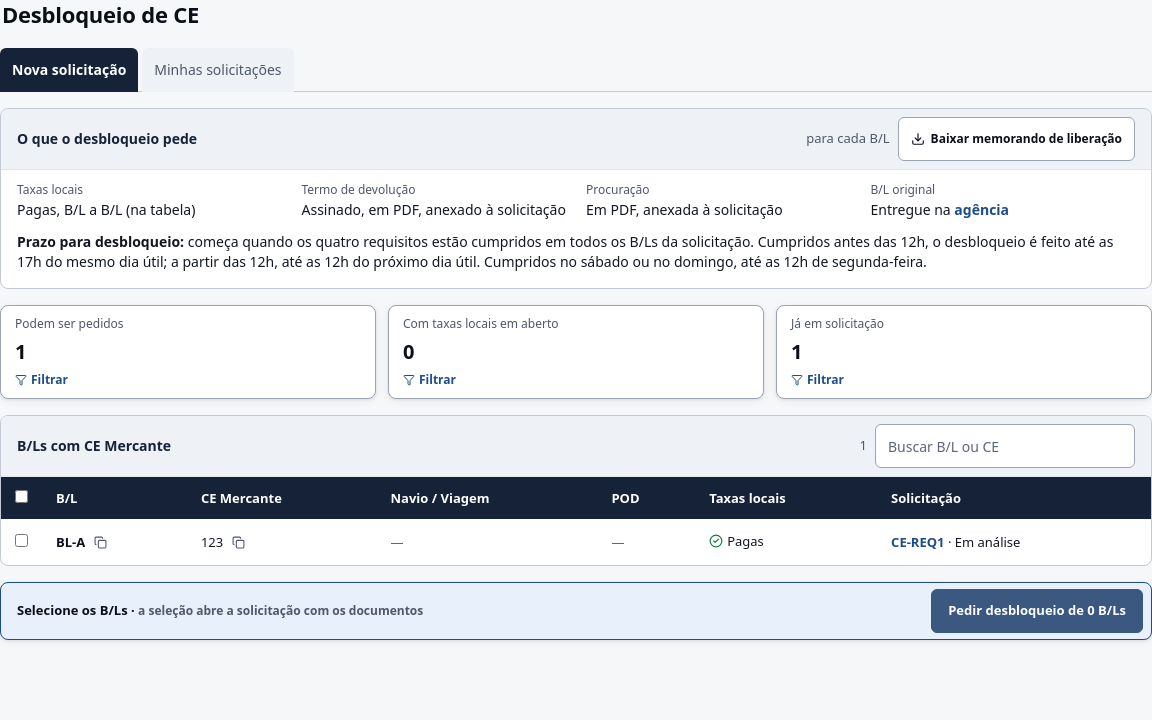
Scenario: prévia conta B/L ativo que o Portal não lista: a antiga continua aberta
Click the checkbox named "Selecionar B/L BL-A".
click(22, 540)  # box [15,534,28,547]
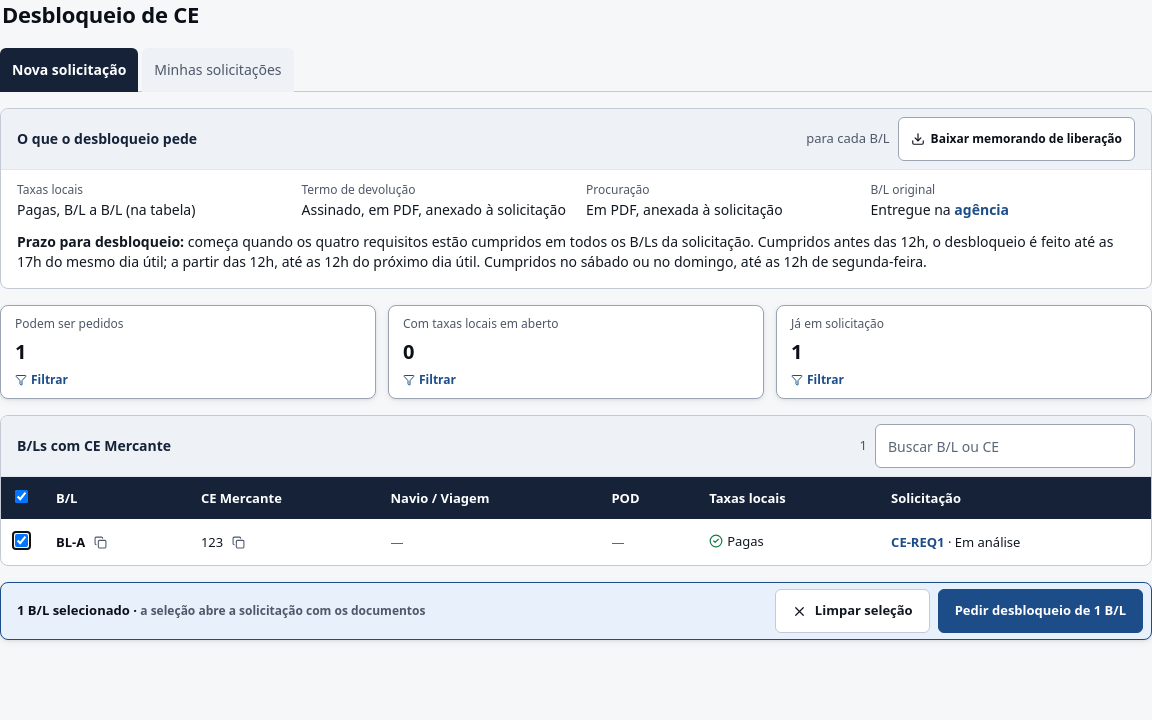
Click the button "Pedir desbloqueio de 1 B/L".
click(1040, 611)  # box [938,589,1143,633]
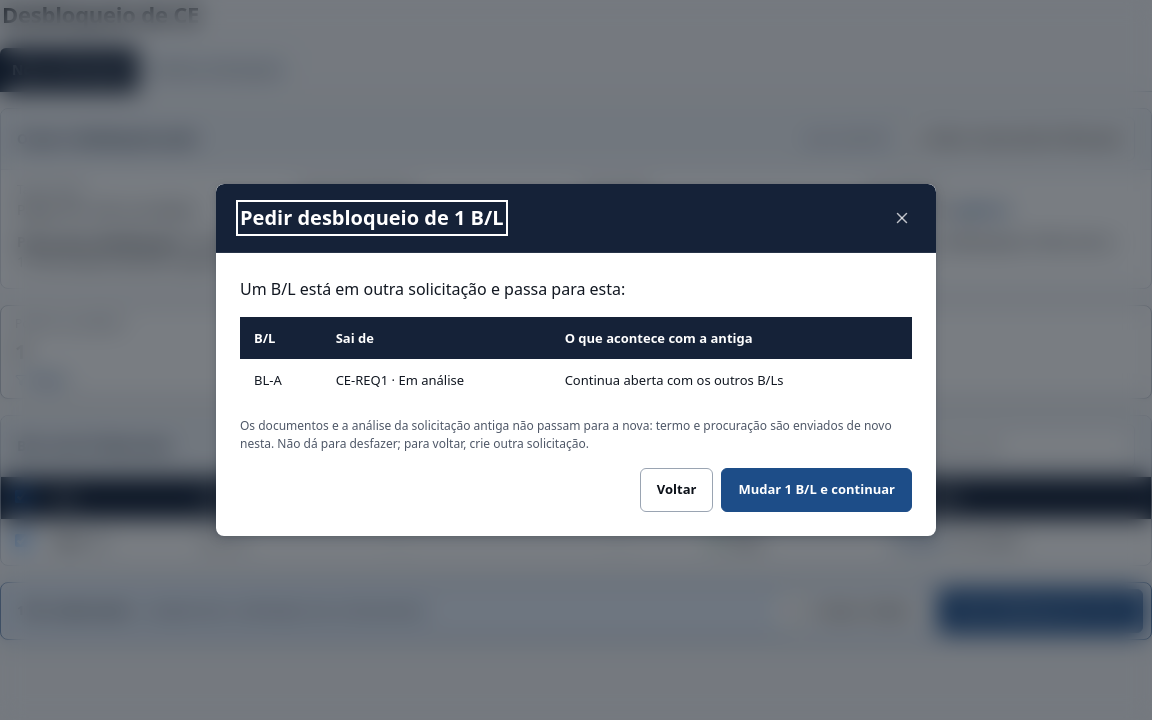
Result: the dialog "Pedir desbloqueio de 1 B/L" shows "Continua aberta com os outros B/Ls" at [565,371,784,389]
